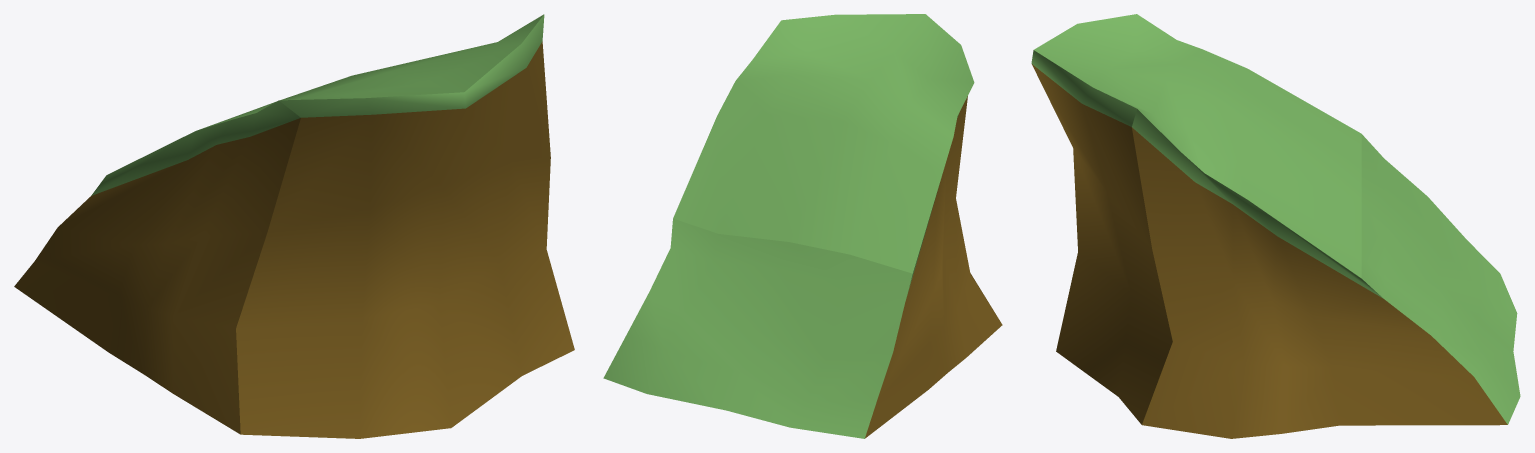
Rendered from Mesh_GroundBlock_02.fbx.
3 renders of one model, left to right at view 1: azimuth 30°, elevation 25°; view 2: azimuth 150°, elevation 25°; view 3: azimuth 270°, elevation 25°, orthographic. The views are drawn at different scales.
Parts seen in each view (by area): view 1: Land_02; view 2: Land_02; view 3: Land_02.
Boxes of the visible parts, box(x1,y1,x2,y2) form: Land_02: box(14, 14, 574, 438); Land_02: box(603, 14, 1002, 438); Land_02: box(1031, 14, 1520, 438).
Size of the model in its own units: 83.04 by 70.89 by 104.
